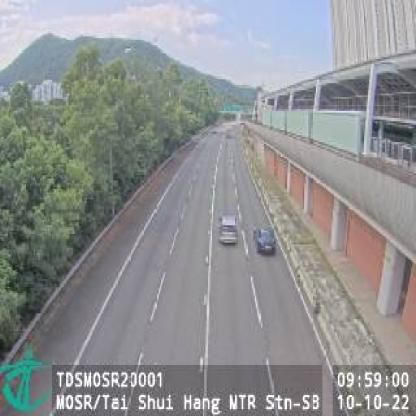Car: (254, 224, 277, 256), (219, 212, 238, 246)
